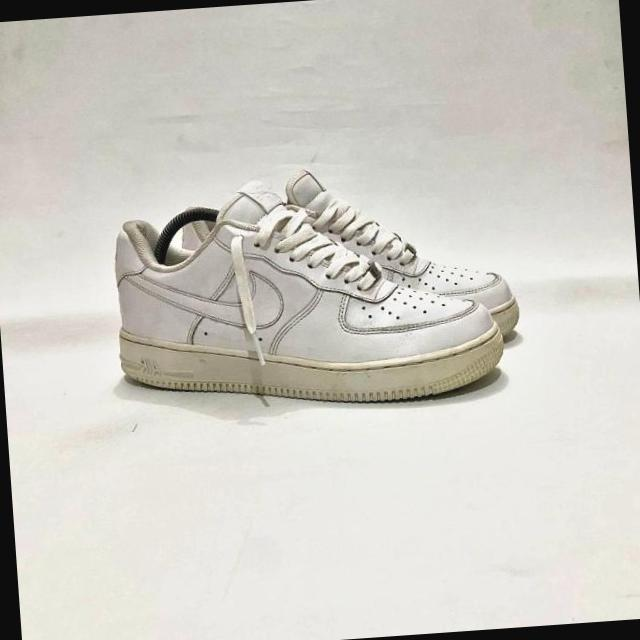nike_original_airforce: (104, 165, 506, 420), (175, 158, 522, 366)
